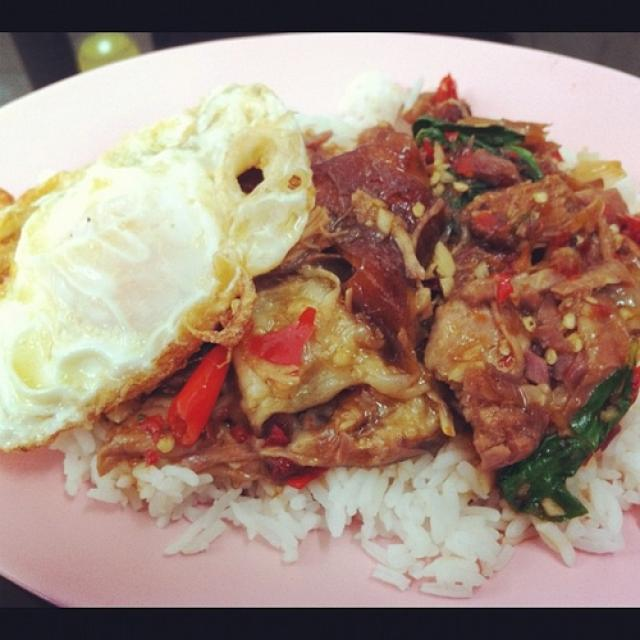猪肉菜式: (12, 66, 599, 562)
